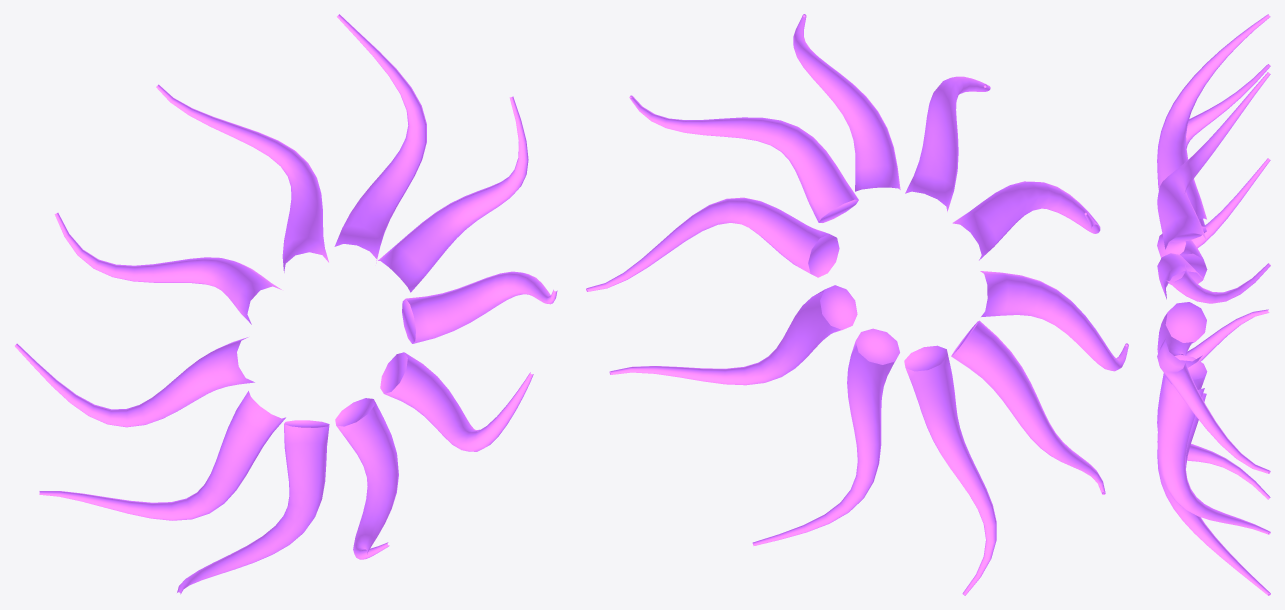
File: occ_tentacles.glb
The picture shows the model from 3 angles, left to right: view 1: azimuth 30°, elevation 25°; view 2: azimuth 150°, elevation 25°; view 3: azimuth 270°, elevation 25°; orthographic projection. The views are drawn at different scales.
Visible parts, largest first — view 1: occ_tentacles; view 2: occ_tentacles; view 3: occ_tentacles.
Boxes of the visible parts, x1,y1,x2,y2 form: occ_tentacles: [15, 14, 557, 594]; occ_tentacles: [586, 14, 1128, 595]; occ_tentacles: [1157, 14, 1270, 595].
Size of the model in its own units: 3.82 by 3.66 by 0.7533.
